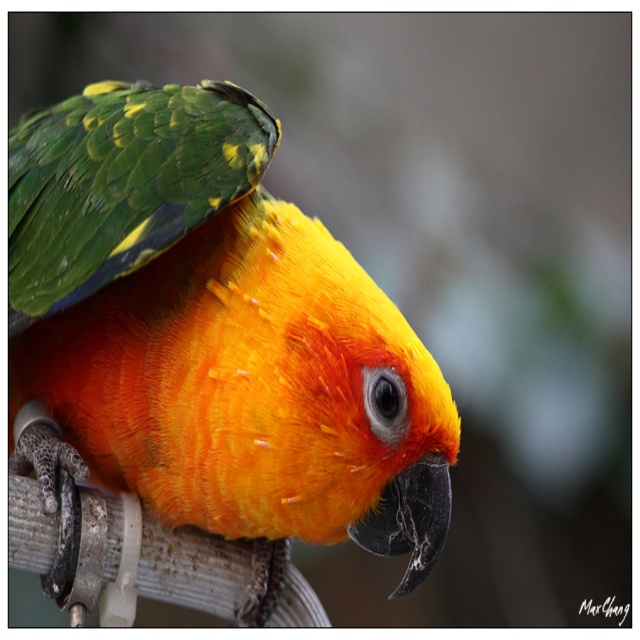Parrot: (8, 78, 462, 629)
